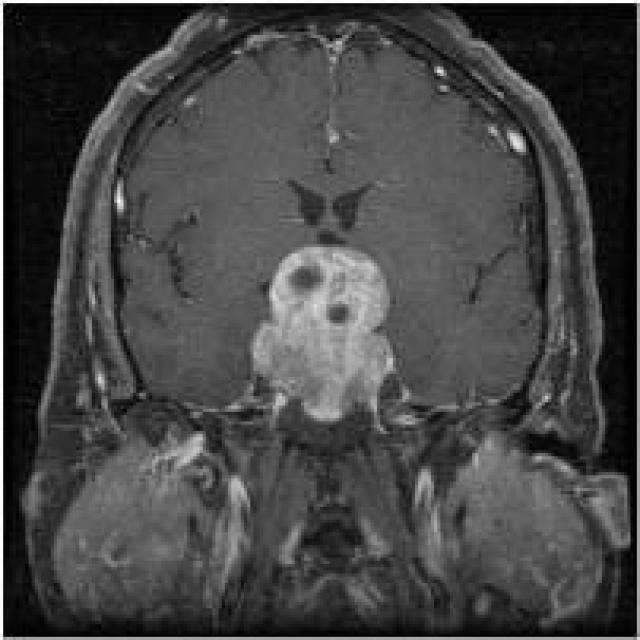brain_tumor: (253, 247, 399, 425)
